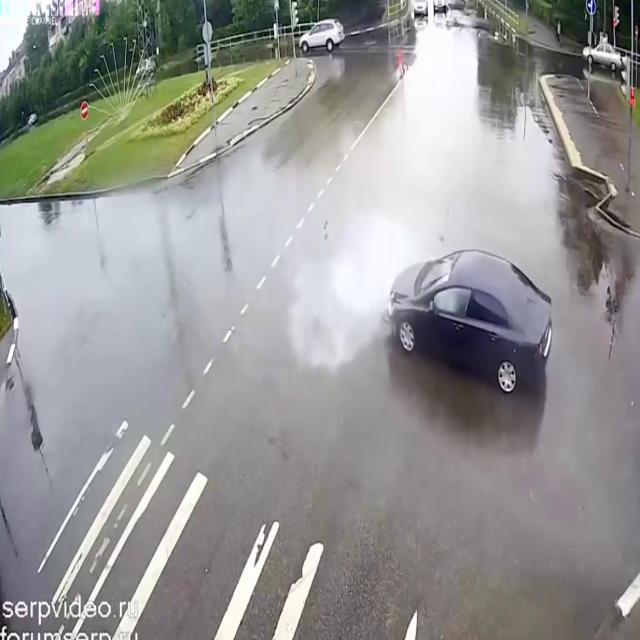accident: (355, 212, 559, 411)
